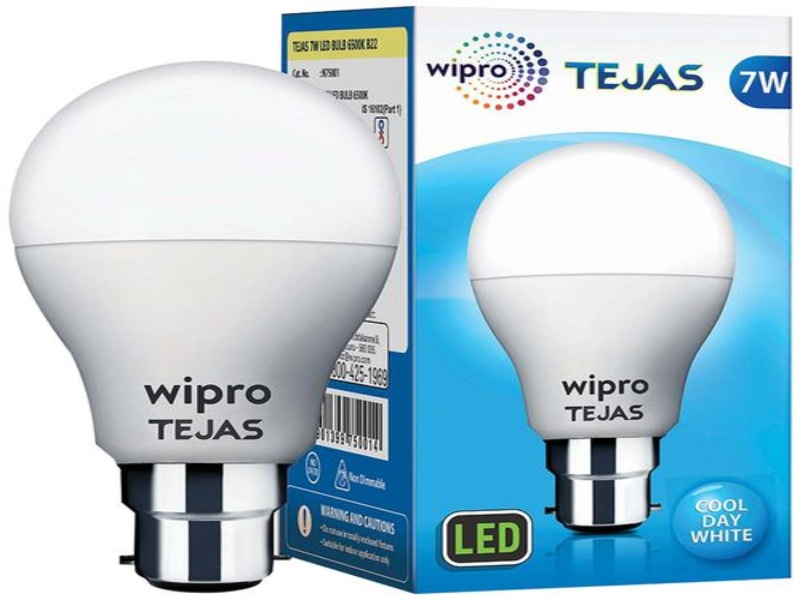wipro: (421, 28, 553, 111)
